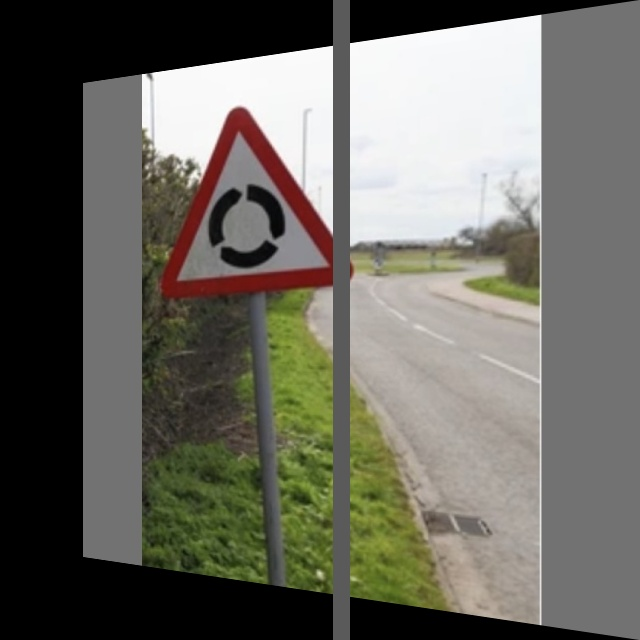Round_About: (169, 91, 349, 290)
